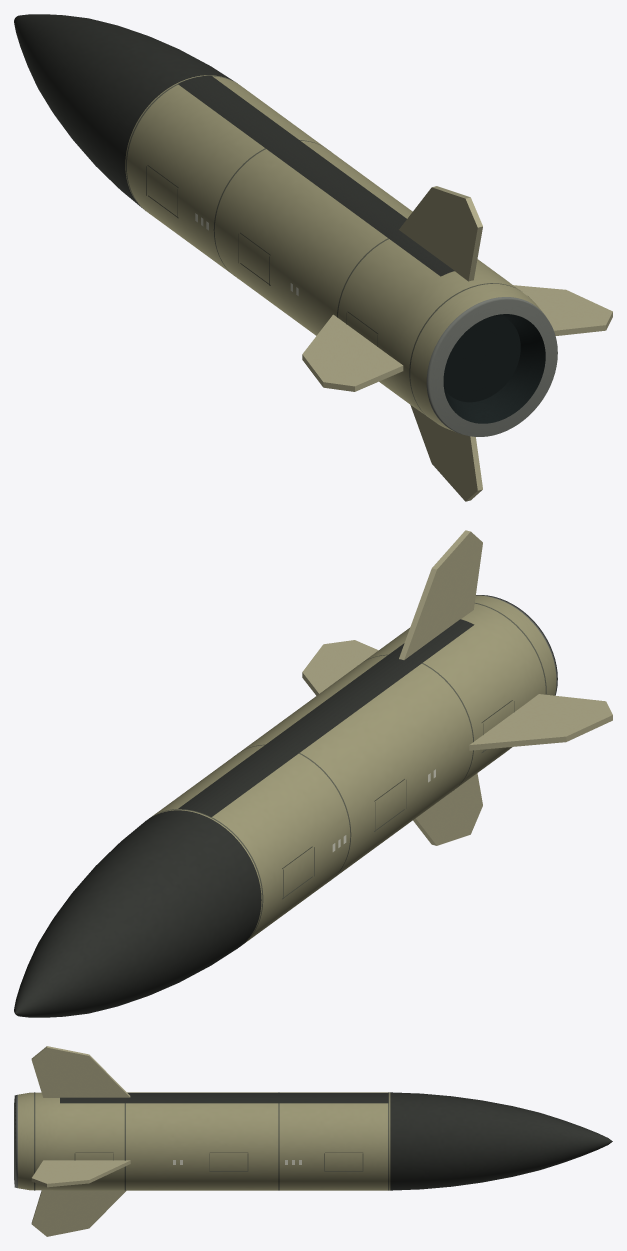
Rendered from atacms.obj.
The picture shows the model from 3 angles, top to bottom: view 1: azimuth 30°, elevation 25°; view 2: azimuth 150°, elevation 25°; view 3: azimuth 270°, elevation 25°; orthographic projection. The views are drawn at different scales.
Visible parts, largest first — view 1: rear_body, ogive_radome, tail_fin, dorsal_finish, nozzle_rim, nozzle_shadow, nozzle_recess, fin_edge, body_seam; view 2: rear_body, ogive_radome, tail_fin, dorsal_finish, fin_edge, body_seam; view 3: rear_body, ogive_radome, tail_fin, dorsal_finish, body_seam, fin_edge, nozzle_rim, panel_line.
Part boxes in pixels (left/top/right/bottom): rear_body: left=125, top=75, right=542, bottom=431; ogive_radome: left=14, top=14, right=233, bottom=207; tail_fin: left=302, top=187, right=612, bottom=501; dorsal_finish: left=178, top=75, right=454, bottom=276; nozzle_rim: left=426, top=297, right=557, bottom=436; nozzle_shadow: left=444, top=316, right=520, bottom=402; nozzle_recess: left=443, top=314, right=545, bottom=423; fin_edge: left=302, top=186, right=612, bottom=501; body_seam: left=126, top=75, right=529, bottom=424; rear_body: left=150, top=595, right=556, bottom=944; ogive_radome: left=14, top=810, right=261, bottom=1017; tail_fin: left=302, top=532, right=612, bottom=845; dorsal_finish: left=178, top=619, right=474, bottom=817; fin_edge: left=302, top=530, right=612, bottom=845; body_seam: left=152, top=603, right=546, bottom=943; rear_body: left=18, top=1092, right=390, bottom=1190; ogive_radome: left=390, top=1092, right=612, bottom=1190; tail_fin: left=31, top=1047, right=130, bottom=1236; dorsal_finish: left=60, top=1093, right=388, bottom=1103; body_seam: left=34, top=1092, right=389, bottom=1190; fin_edge: left=31, top=1046, right=130, bottom=1223; nozzle_rim: left=14, top=1094, right=17, bottom=1188; panel_line: left=74, top=1152, right=363, bottom=1171.
Bounding box in the file's own units: 2.72 × 2.72 × 7.8.
Materials: 1 (1 with a texture image).
